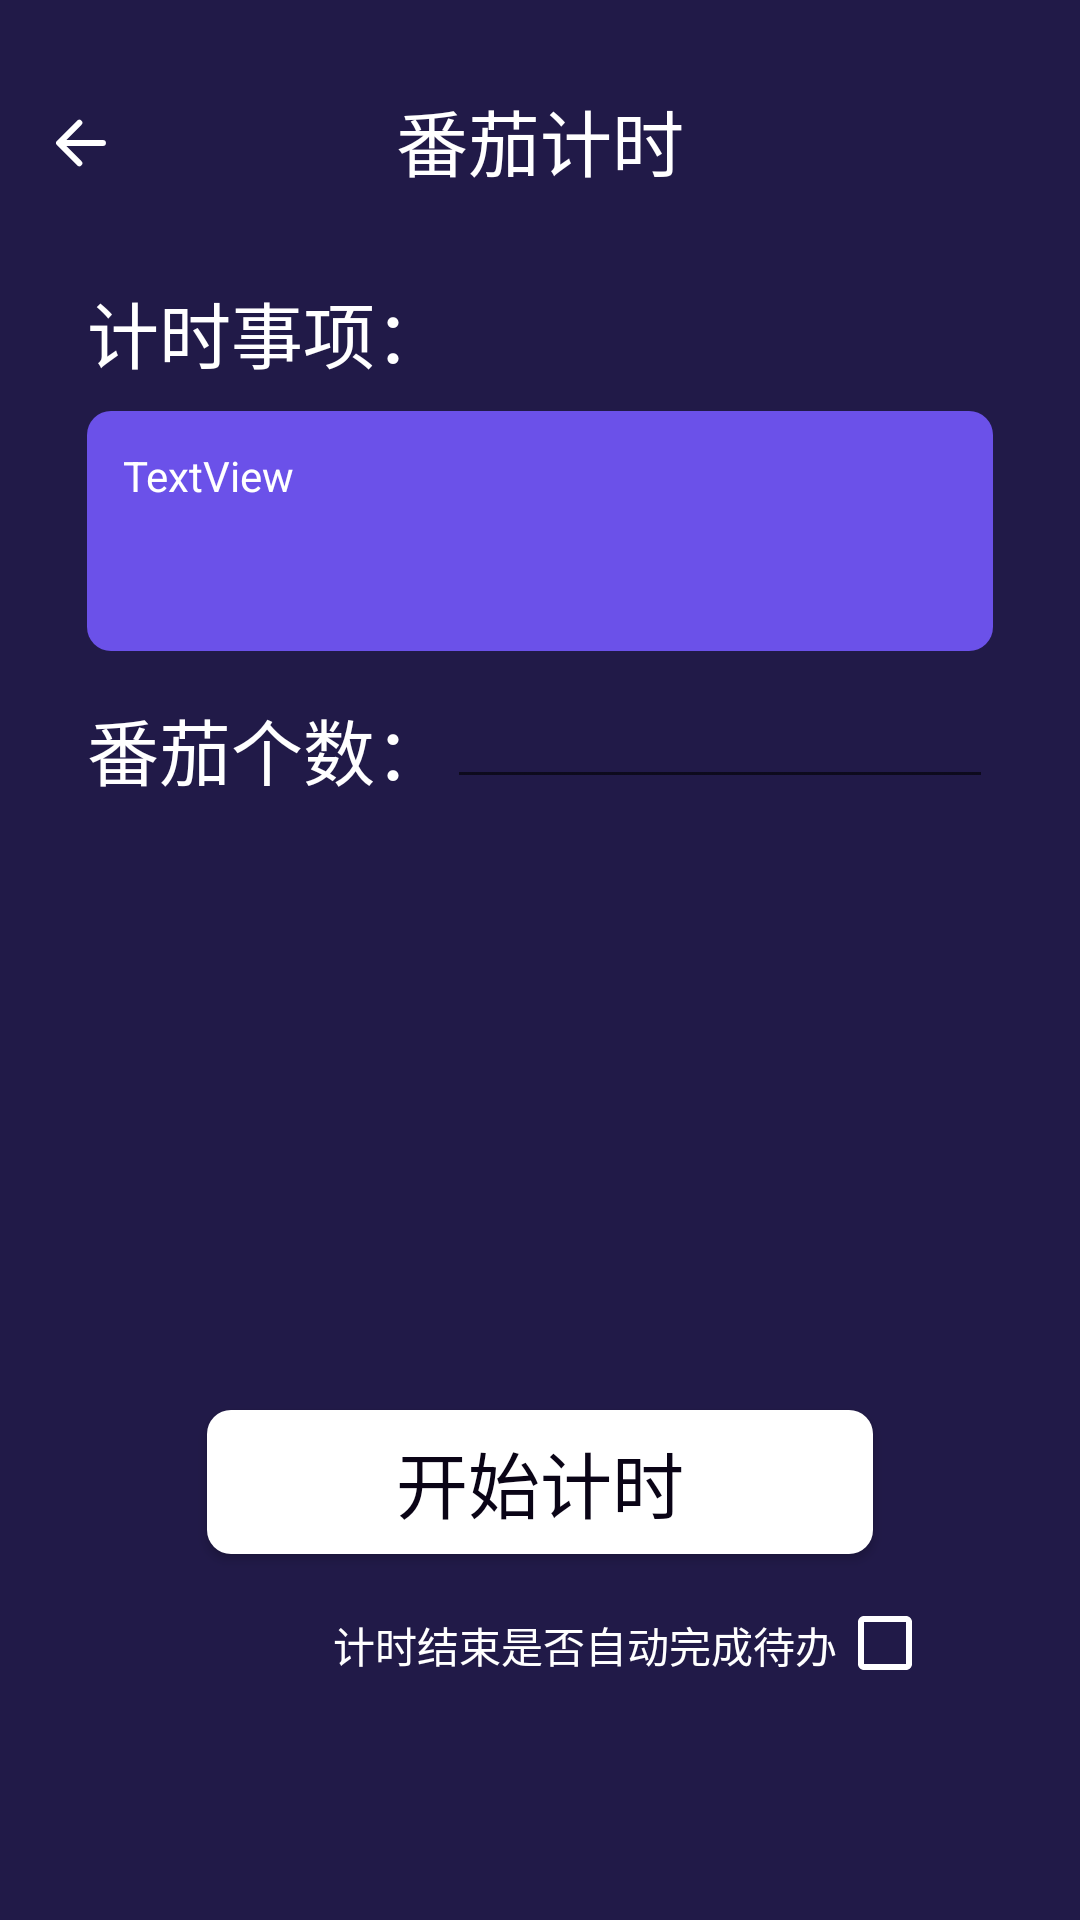

Icon click points for this 1080w x 1920h phone screenshot, format [x,y]:
back: [81,143]
